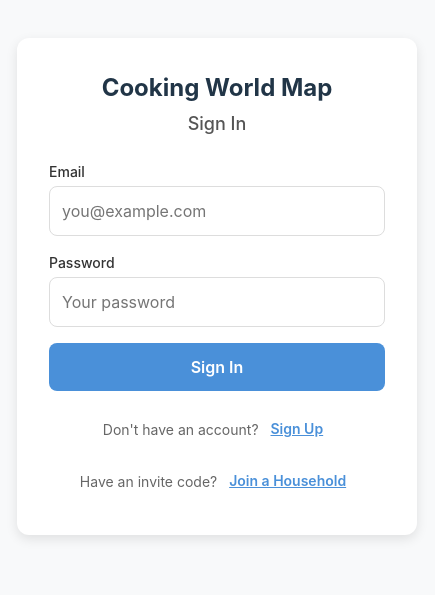
it: AuthGate › shows error for invalid credentials on sign-in (Req 8.7)
Type "test@example.com" into the field labelled "Email".
click(217, 210); type("test@example.com")  # box [49, 186, 385, 236]
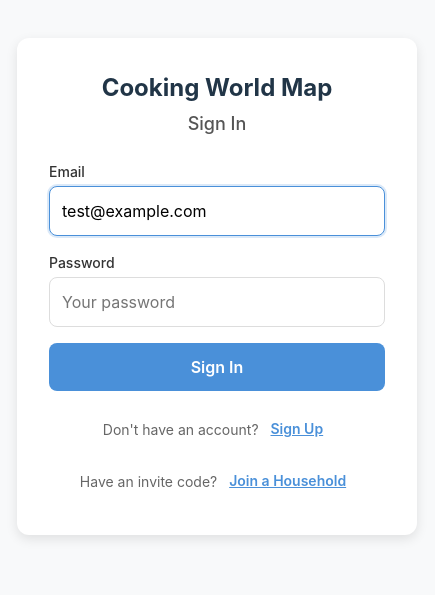
Type "wrongpass" into the password field labelled "Password".
click(217, 302); type("wrongpass")  # box [49, 276, 385, 326]
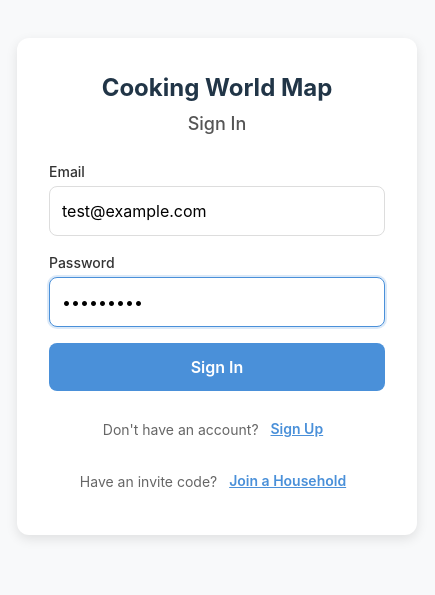
Click the button "Sign In".
click(217, 366)  # box [49, 342, 385, 390]
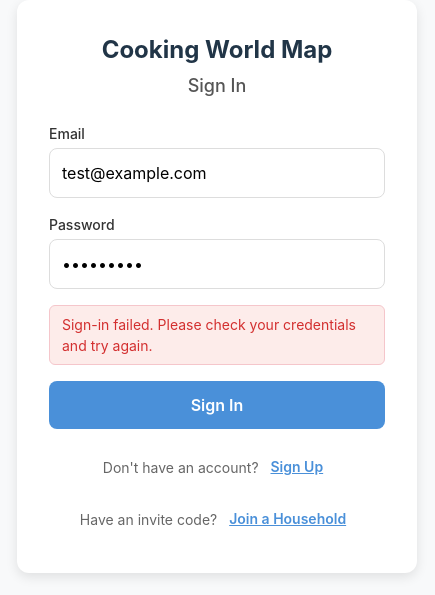
Expected: the message shows "Sign-in failed", [62, 316, 356, 354]
